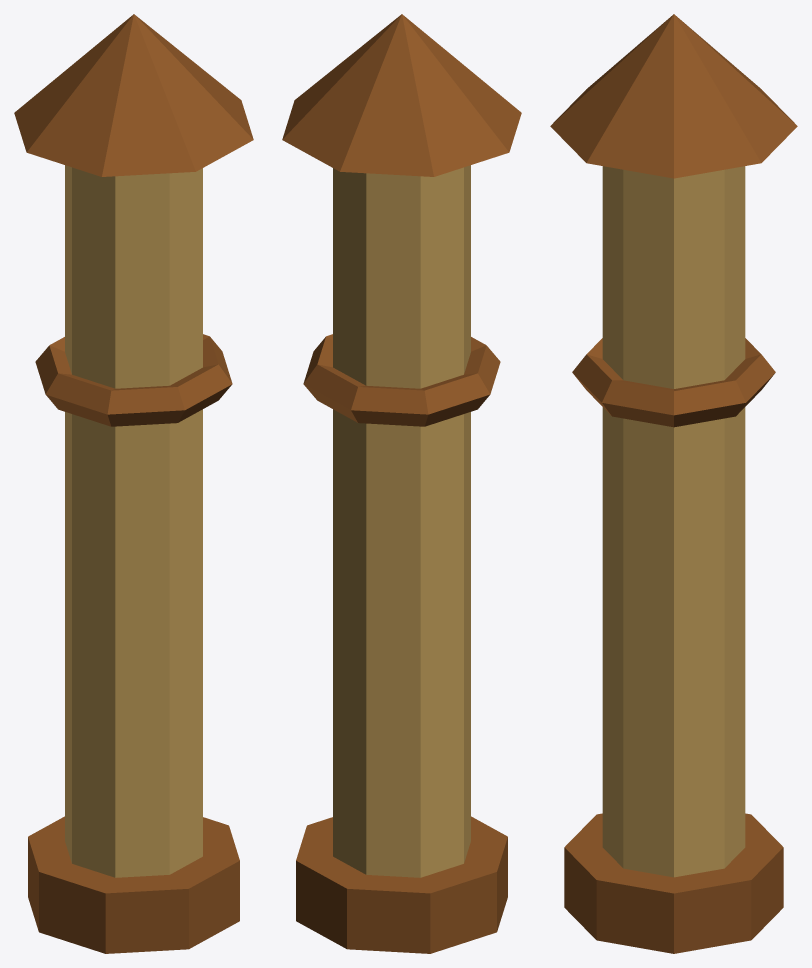
Rendered from gate_post.glb.
The picture shows the model from 3 angles, left to right: view 1: azimuth 30°, elevation 25°; view 2: azimuth 150°, elevation 25°; view 3: azimuth 270°, elevation 25°; orthographic projection.
Visible parts, largest first — view 1: Cone; view 2: Cone; view 3: Cone.
Boxes of the visible parts, <box> form: Cone: <box>14,14,253,953</box>; Cone: <box>282,14,521,953</box>; Cone: <box>550,14,797,953</box>.
Size of the model in its own units: 0.624 by 2.48 by 0.624.
